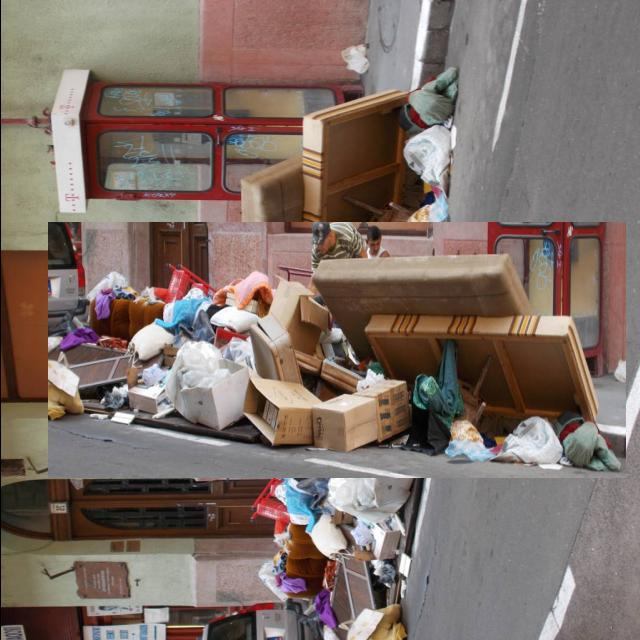garbage: (127, 142, 545, 560)
